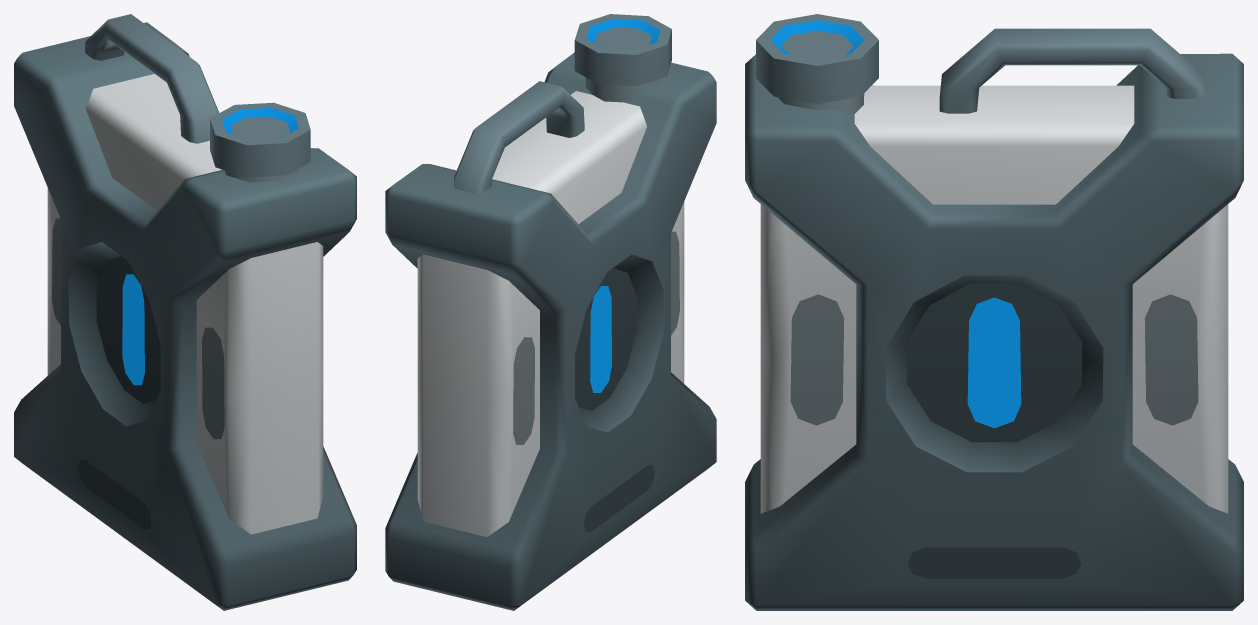
Rendered from Gas_can_009.glb.
The picture shows the model from 3 angles, left to right: view 1: azimuth 30°, elevation 25°; view 2: azimuth 150°, elevation 25°; view 3: azimuth 270°, elevation 25°; orthographic projection. The views are drawn at different scales.
Parts seen in each view (by area): view 1: Gas_can_009; view 2: Gas_can_009; view 3: Gas_can_009.
Boxes of the visible parts, box(x1,y1,x2,y2) form: Gas_can_009: box(14, 14, 356, 610); Gas_can_009: box(385, 14, 716, 610); Gas_can_009: box(745, 14, 1243, 610).
Bounding box in the file's own units: 0.1866 × 0.5759 × 0.4824.
Materials: 2 (2 with a texture image).
